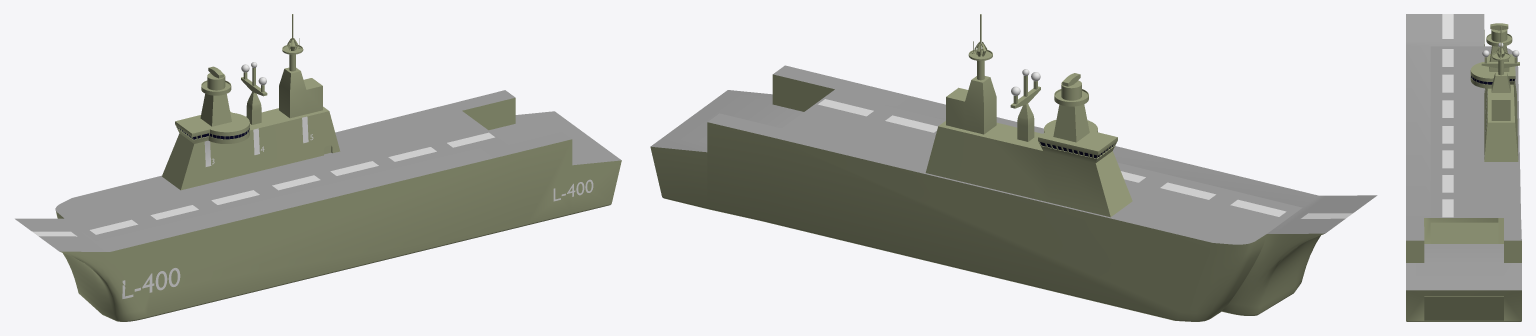
File: low-poly_warship.glb
3 views of the same model, side by side, from view 1: azimuth 30°, elevation 25°; view 2: azimuth 150°, elevation 25°; view 3: azimuth 270°, elevation 25° (orthographic). The views are drawn at different scales.
Visible parts, largest first — view 1: Cube_8; view 2: Cube_8; view 3: Cube_8, Cube.002_9, Cube.003_10.
Boxes of the visible parts, x1,y1,x2,y2 form: Cube_8: [15, 14, 621, 321]; Cube_8: [650, 14, 1377, 321]; Cube_8: [1406, 14, 1521, 321]; Cube.002_9: [1424, 296, 1503, 320]; Cube.003_10: [1430, 222, 1498, 243].
Bounding box in the file's own units: 15.45 × 5.66 × 3.2.
